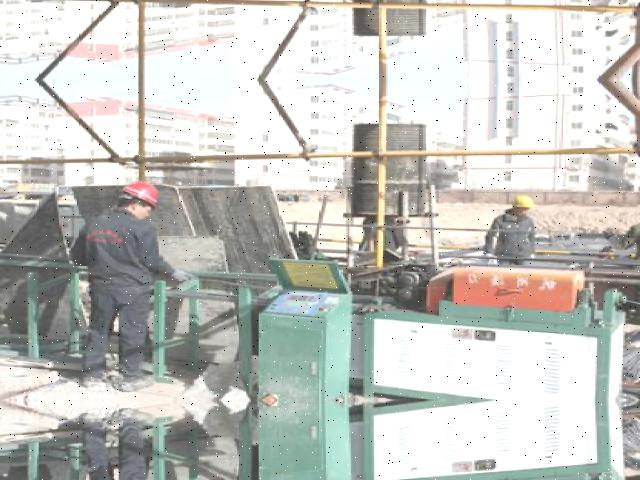Helmet: (121, 180, 167, 208), (507, 193, 542, 208)
